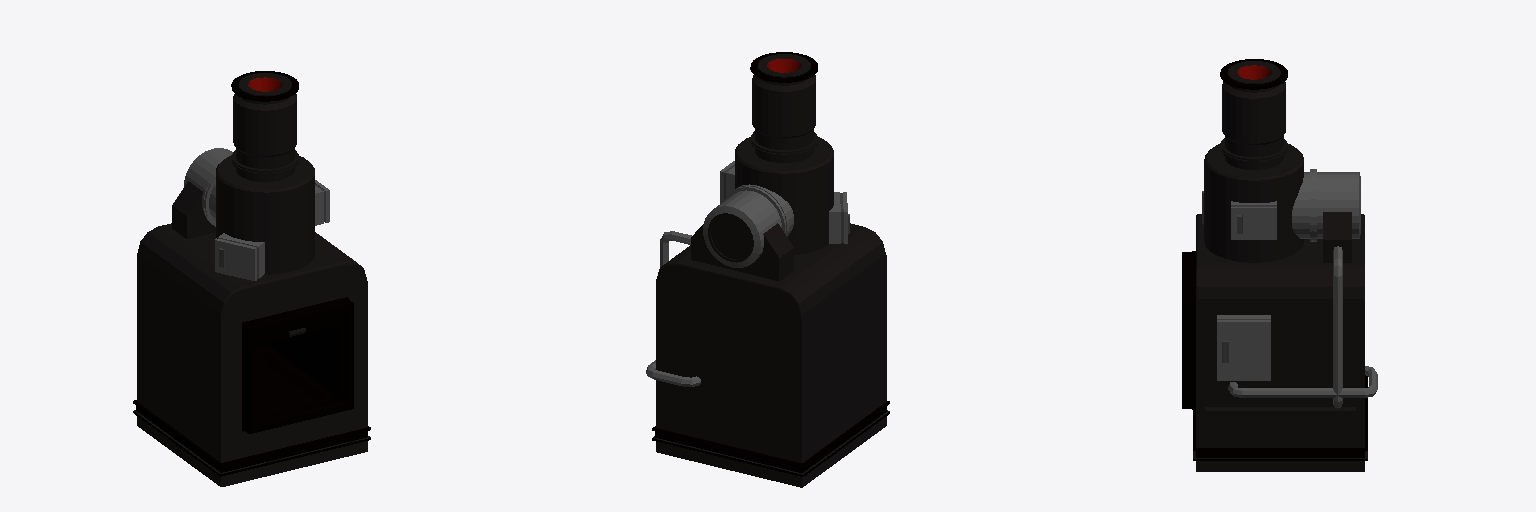
The model's file is incinerator.obj.
3 views of the same model, side by side, from view 1: azimuth 30°, elevation 25°; view 2: azimuth 150°, elevation 25°; view 3: azimuth 270°, elevation 25° (orthographic).
Parts seen in each view (by area): view 1: Cube.001, Cylinder.001, Cube.004, Cube.002, Cylinder, Plane, Cube.003; view 2: Cube.001, Cylinder.001, Cylinder, Cube.002, Cube.004, Cylinder.002; view 3: Cube.001, Cylinder.001, Cylinder, Cube.005, Cube.003, Cylinder.002, Cylinder.003, Cube.002.
Boxes of the visible parts, x1,y1,x2,y2 form: Cube.001: [133, 223, 370, 486]; Cylinder.001: [216, 71, 314, 274]; Cube.004: [215, 233, 264, 280]; Cube.002: [172, 181, 215, 238]; Cylinder: [184, 148, 232, 226]; Plane: [255, 313, 342, 344]; Cube.003: [315, 180, 329, 225]; Cube.001: [652, 223, 889, 487]; Cylinder.001: [735, 52, 833, 254]; Cylinder: [703, 184, 793, 267]; Cube.002: [691, 223, 793, 280]; Cube.004: [829, 192, 849, 243]; Cylinder.002: [646, 360, 700, 386]; Cube.001: [1182, 214, 1367, 471]; Cylinder.001: [1204, 59, 1303, 262]; Cylinder: [1292, 169, 1360, 241]; Cube.005: [1217, 315, 1270, 380]; Cube.003: [1231, 201, 1276, 239]; Cylinder.002: [1228, 366, 1377, 397]; Cylinder.003: [1333, 246, 1342, 408]; Cube.002: [1323, 212, 1351, 262].
Size of the model in its own units: 2.16 by 4.76 by 2.32.